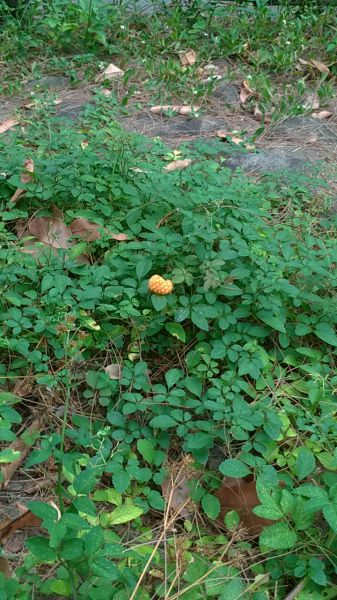eggs: (144, 273, 178, 301)
